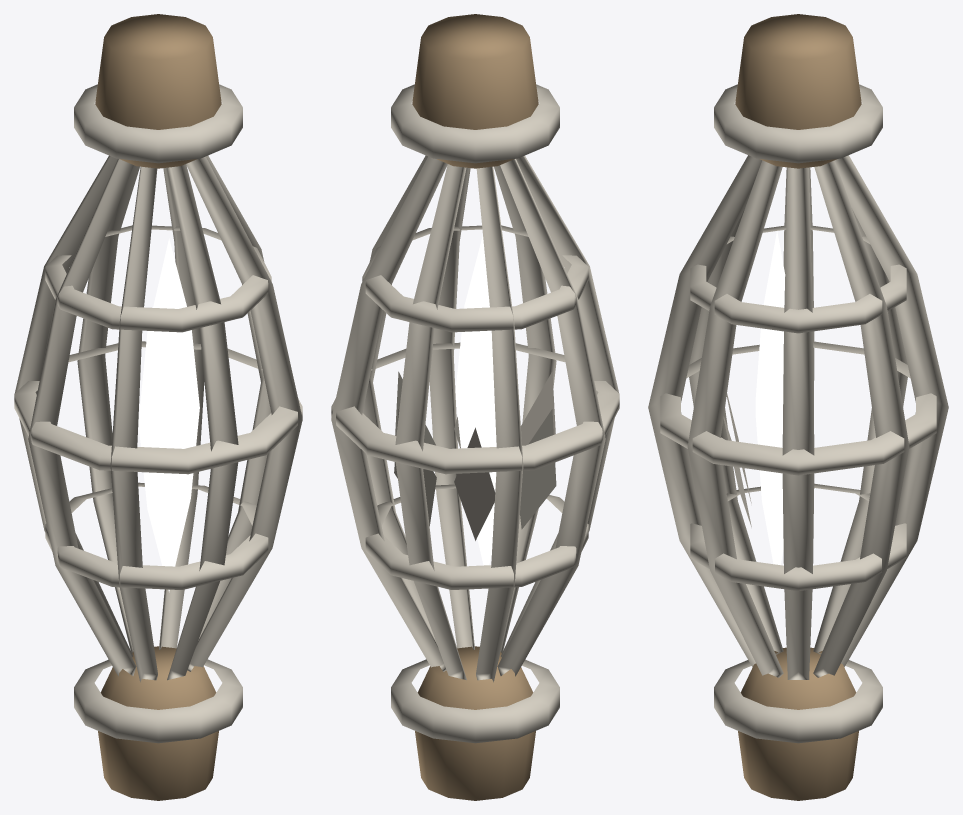
The model's file is interior_rare.glb.
3 renders of one model, left to right at view 1: azimuth 30°, elevation 25°; view 2: azimuth 150°, elevation 25°; view 3: azimuth 270°, elevation 25°, orthographic.
Visible parts, largest first — view 1: interior_rare; view 2: interior_rare; view 3: interior_rare.
Boxes of the visible parts, <box> form: interior_rare: <box>14,14,302,800</box>; interior_rare: <box>331,14,619,800</box>; interior_rare: <box>648,14,948,800</box>.
Bounding box in the file's own units: 0.1692 × 0.46 × 0.1692.
